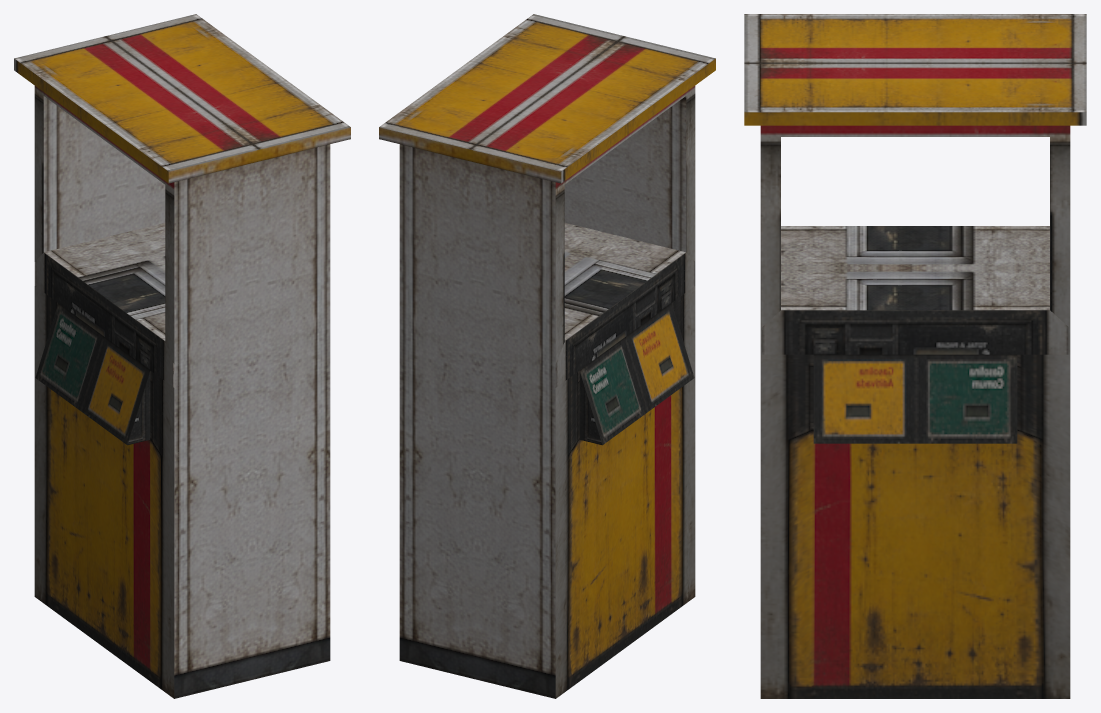
File: Gas_Station_Pump.fbx
3 views of the same model, side by side, from view 1: azimuth 30°, elevation 25°; view 2: azimuth 150°, elevation 25°; view 3: azimuth 270°, elevation 25° (orthographic). The views are drawn at different scales.
Visible parts, largest first — view 1: GasPump; view 2: GasPump; view 3: GasPump.
Part boxes in pixels (<box>): GasPump: <box>14,14,350,698</box>; GasPump: <box>379,14,715,698</box>; GasPump: <box>744,14,1086,698</box>.
Bounding box in the file's own units: 0.2796 × 0.7079 × 0.3704.
1 material, 1 textured.
